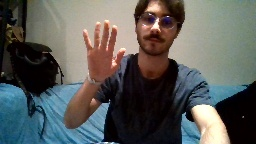Mano_aperta: (78, 18, 127, 81)
